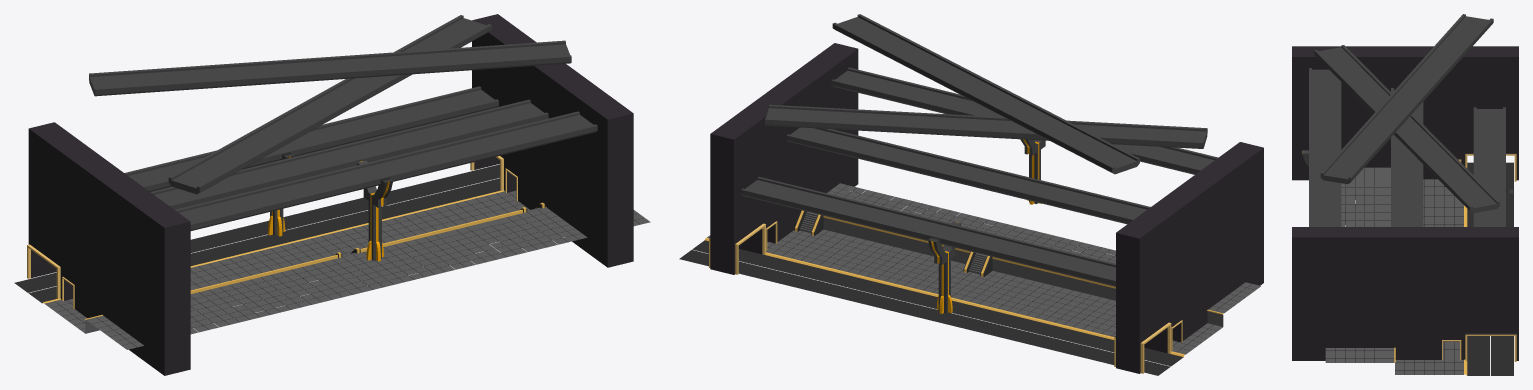
File: Himik_Street_Main_Road.fbx
The picture shows the model from 3 angles, left to right: view 1: azimuth 30°, elevation 25°; view 2: azimuth 150°, elevation 25°; view 3: azimuth 270°, elevation 25°; orthographic projection. The views are drawn at different scales.
Parts seen in each view (by area): view 1: Main Road, Tunnel.001, Tunnel, Tunnel.006, Tunnel.003, Tunnel.004, Tunnel.005, Tunnel.002, Rail Support.001; view 2: Main Road, Tunnel.001, Tunnel, Tunnel.002, Tunnel.006, Tunnel.005, Tunnel.004, Tunnel.003, Rail Support, Rail Support.001; view 3: Tunnel, Tunnel.001, Main Road, Tunnel.006, Tunnel.005, Tunnel.003, Tunnel.002, Tunnel.004.
Boxes of the visible parts, x1,y1,x2,y2 form: Main Road: (14, 164, 650, 349); Tunnel.001: (27, 122, 190, 375); Tunnel: (470, 14, 633, 267); Tunnel.006: (89, 40, 571, 96); Tunnel.003: (175, 111, 597, 230); Tunnel.004: (150, 99, 548, 209); Tunnel.005: (168, 15, 491, 194); Tunnel.002: (124, 86, 498, 191); Rail Support.001: (357, 160, 393, 261); Main Road: (679, 183, 1260, 375); Tunnel.001: (1114, 142, 1263, 373); Tunnel: (709, 43, 858, 274); Tunnel.002: (741, 177, 1115, 286); Tunnel.006: (832, 14, 1139, 174); Tunnel.005: (765, 104, 1207, 148); Tunnel.004: (786, 127, 1150, 224); Tunnel.003: (831, 67, 1218, 174); Rail Support: (928, 221, 961, 313); Rail Support.001: (1020, 139, 1045, 204); Tunnel: (1292, 227, 1518, 361); Tunnel.001: (1292, 46, 1518, 181); Main Road: (1325, 162, 1513, 375); Tunnel.006: (1320, 14, 1493, 184); Tunnel.005: (1314, 45, 1499, 213); Tunnel.003: (1309, 68, 1341, 226); Tunnel.002: (1473, 107, 1505, 226); Tunnel.004: (1391, 88, 1423, 226).
Size of the model in its own units: 22203 by 9978 by 8226.
Materials: 6 (6 with a texture image).
